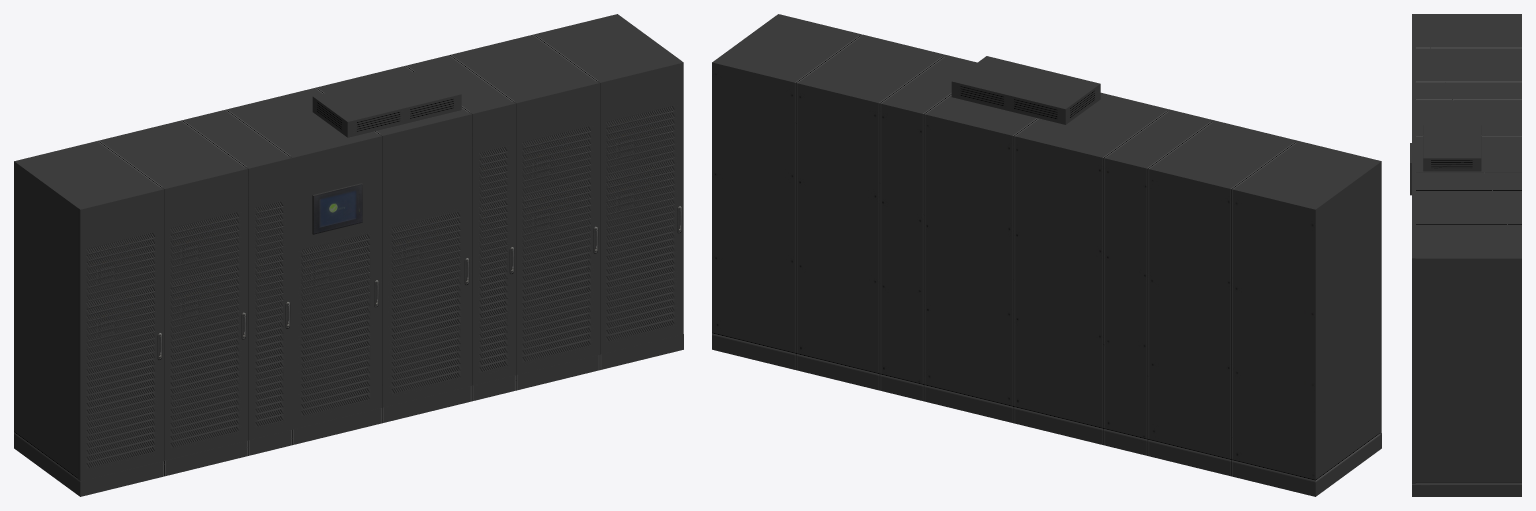
The model's file is UPS.gltf.
3 views of the same model, side by side, from view 1: azimuth 30°, elevation 25°; view 2: azimuth 150°, elevation 25°; view 3: azimuth 270°, elevation 25° (orthographic). The views are drawn at different scales.
Visible parts, largest first — view 1: UPS; view 2: UPS; view 3: UPS.
Part boxes in pixels (x1,y1,x2,y2): UPS: (14,14,683,496); UPS: (712,14,1381,496); UPS: (1410,14,1521,496).
Size of the model in its own units: 4.84 by 2.32 by 0.9351.
1 material, 1 textured.
